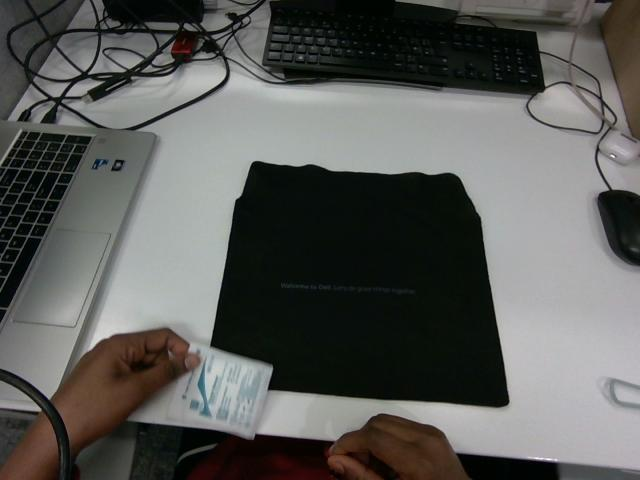gauze: (167, 343, 272, 438)
